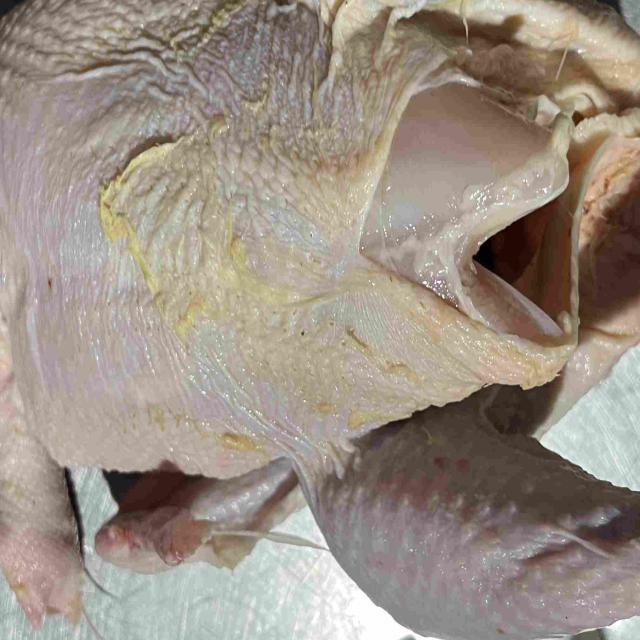breast: (0, 0, 559, 478), (0, 242, 77, 622)
leg: (301, 414, 640, 640)
